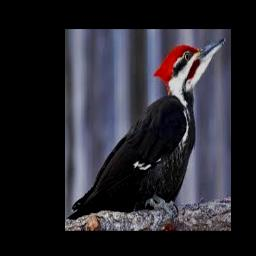Woodpecker: (67, 37, 226, 221)
